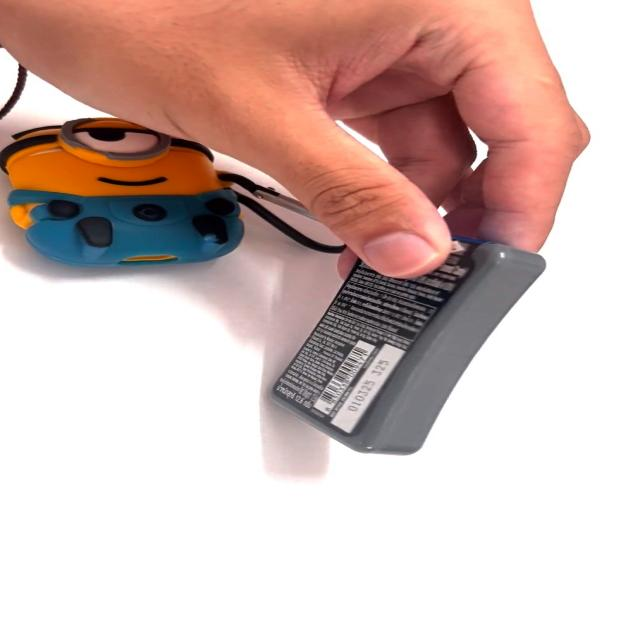airpod minion: (0, 106, 413, 278)
mint hall: (257, 233, 553, 460)
